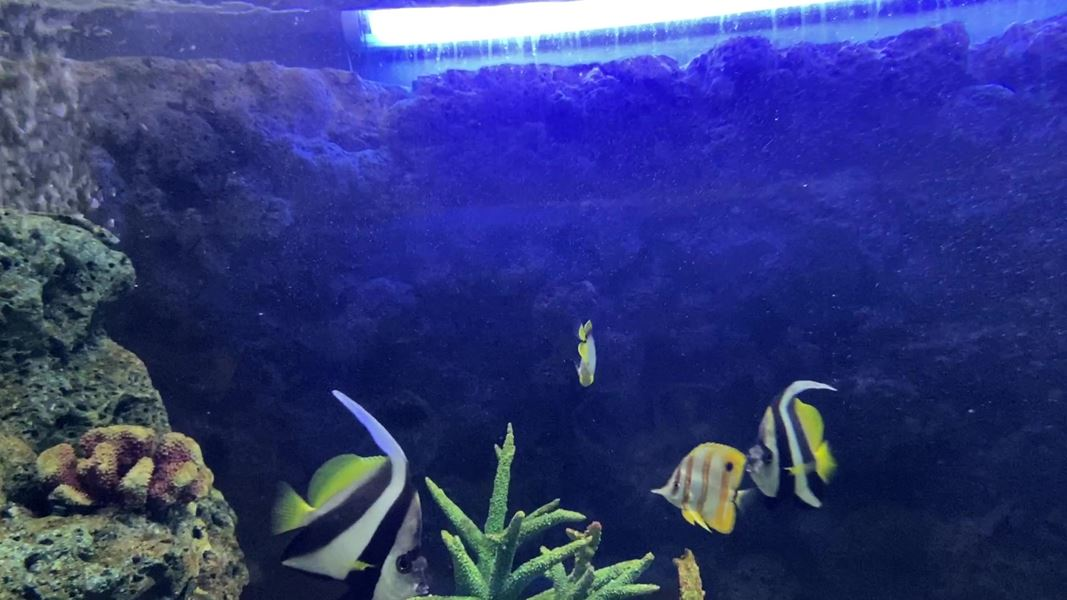Black-backed butterflyfish: (557, 308, 607, 395)
